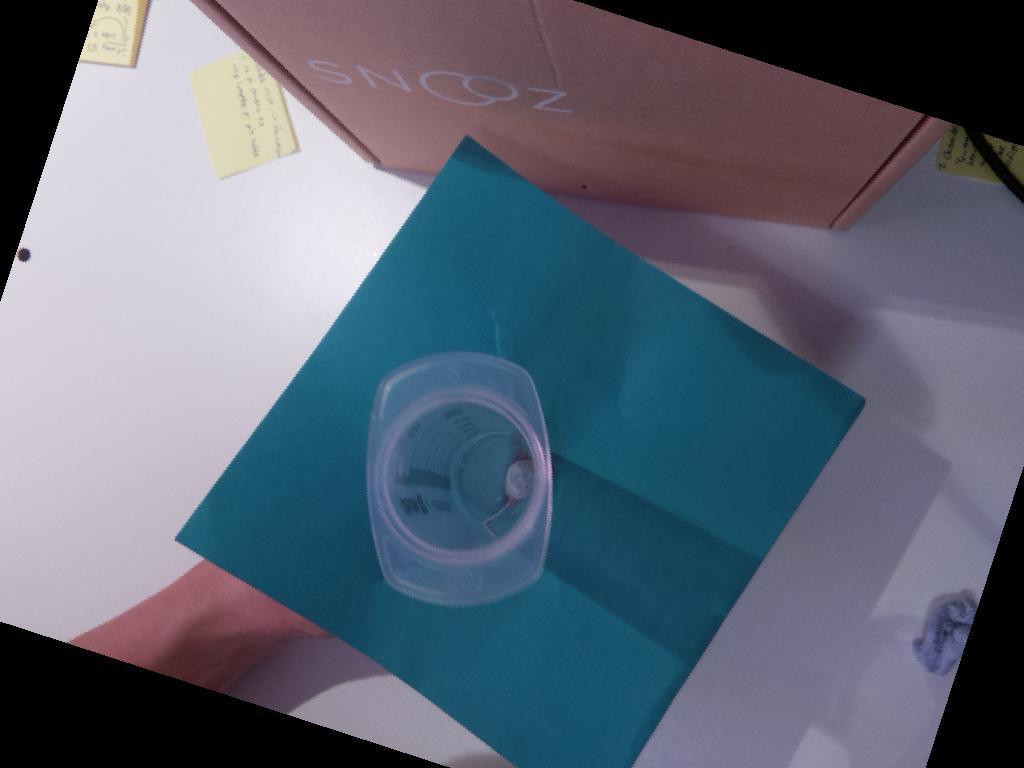clean: (364, 353, 553, 610)
